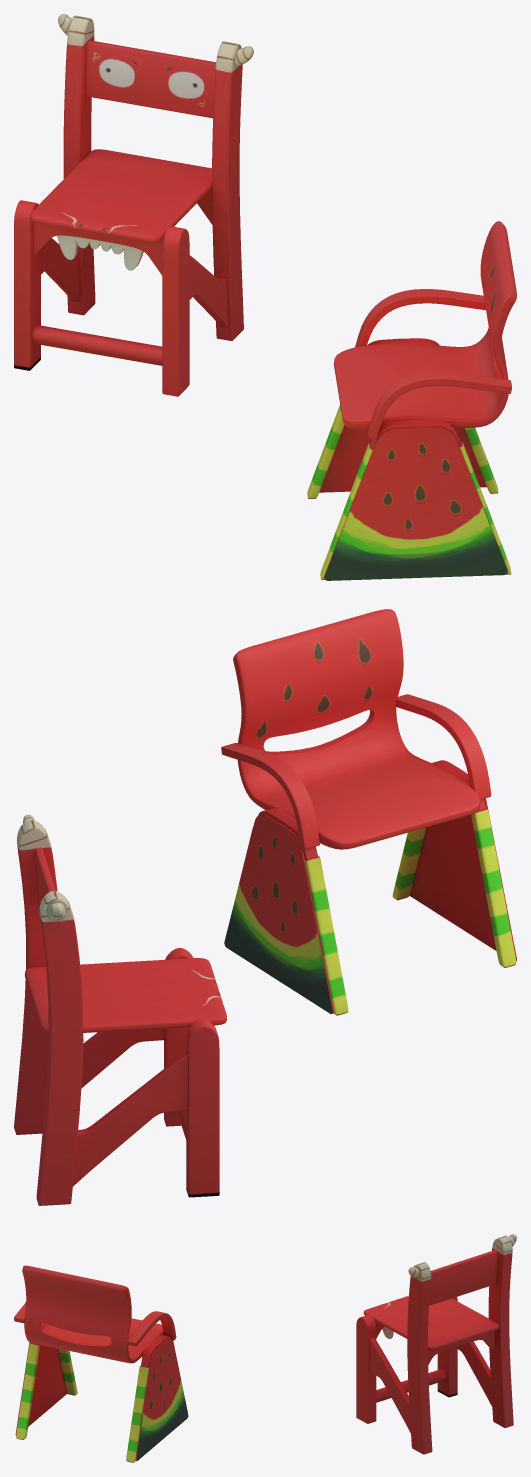
File: Chair_LOD0.glb
3 renders of one model, top to bottom at view 1: azimuth 30°, elevation 25°; view 2: azimuth 150°, elevation 25°; view 3: azimuth 270°, elevation 25°, orthographic. The views are drawn at different scales.
Visible parts, largest first — view 1: Chair 1_Retopo.001_LOD0; view 2: Chair 1_Retopo.001_LOD0; view 3: Chair 1_Retopo.001_LOD0.
Boxes of the visible parts, box(x1,y1,x2,y2) form: Chair 1_Retopo.001_LOD0: box(14, 14, 516, 580); Chair 1_Retopo.001_LOD0: box(14, 609, 516, 1205); Chair 1_Retopo.001_LOD0: box(14, 1234, 516, 1462).
Size of the model in its own units: 0.8644 by 0.9979 by 2.44.
Materials: 1 (1 with a texture image).
